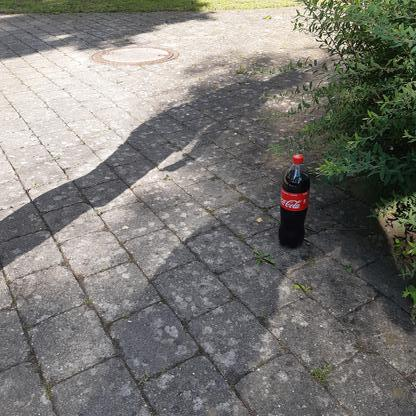coca-cola: (278, 153, 312, 250)
